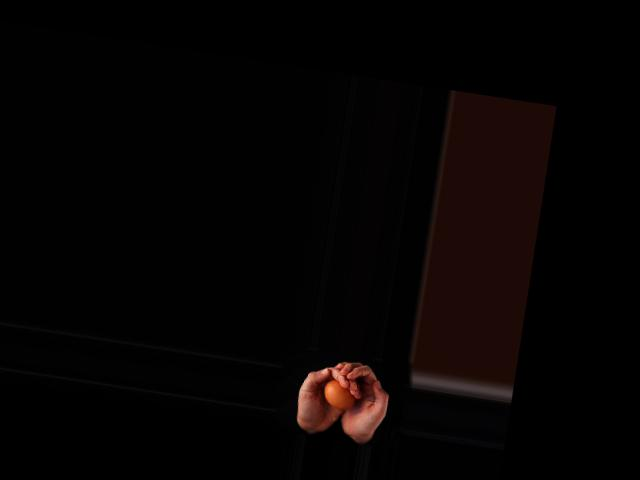egg: (322, 379, 359, 412)
